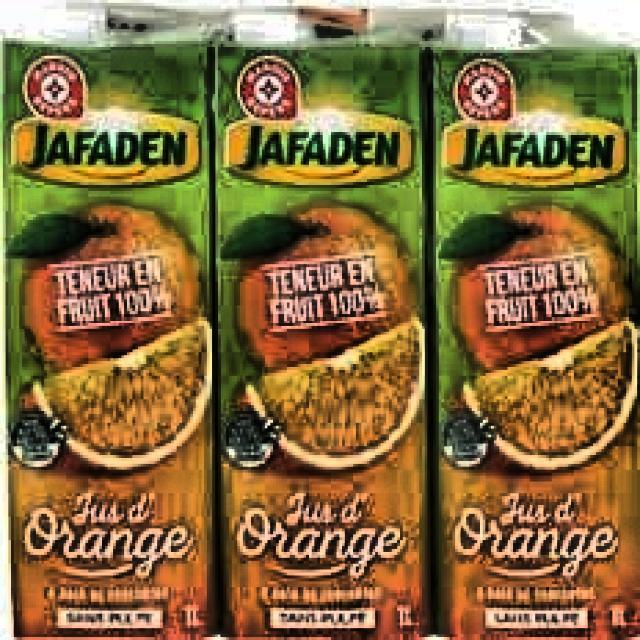cardboard: (210, 38, 430, 637), (428, 41, 638, 637)
